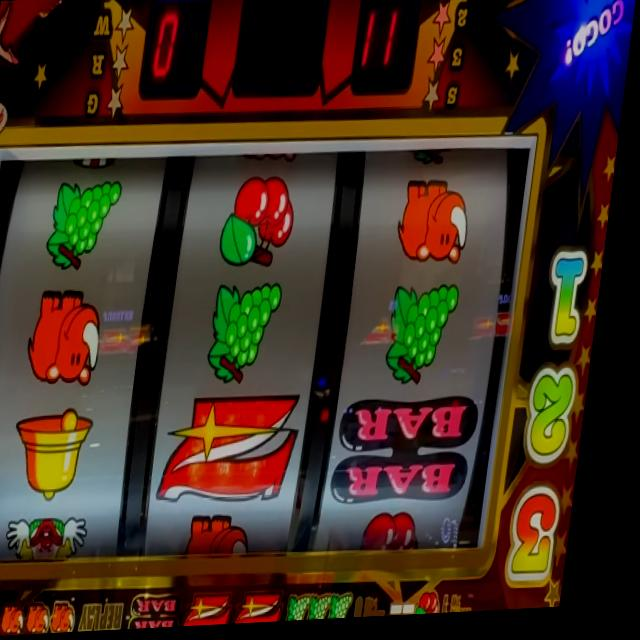bar: (341, 399, 492, 508), (145, 591, 198, 631)
bell: (19, 403, 106, 509)
cherry: (223, 176, 305, 271), (373, 514, 435, 558), (431, 594, 458, 619)
clown: (15, 511, 104, 568)
display: (0, 123, 539, 578)
elephant: (31, 285, 117, 392), (400, 180, 479, 279), (194, 512, 269, 563), (41, 601, 68, 636), (65, 602, 93, 635), (14, 603, 41, 637)
grape: (211, 278, 291, 387), (390, 286, 469, 394), (48, 177, 127, 275), (344, 594, 370, 623), (323, 593, 346, 624), (303, 597, 326, 624)
z: (171, 392, 312, 513), (200, 594, 249, 629), (256, 590, 297, 627)
